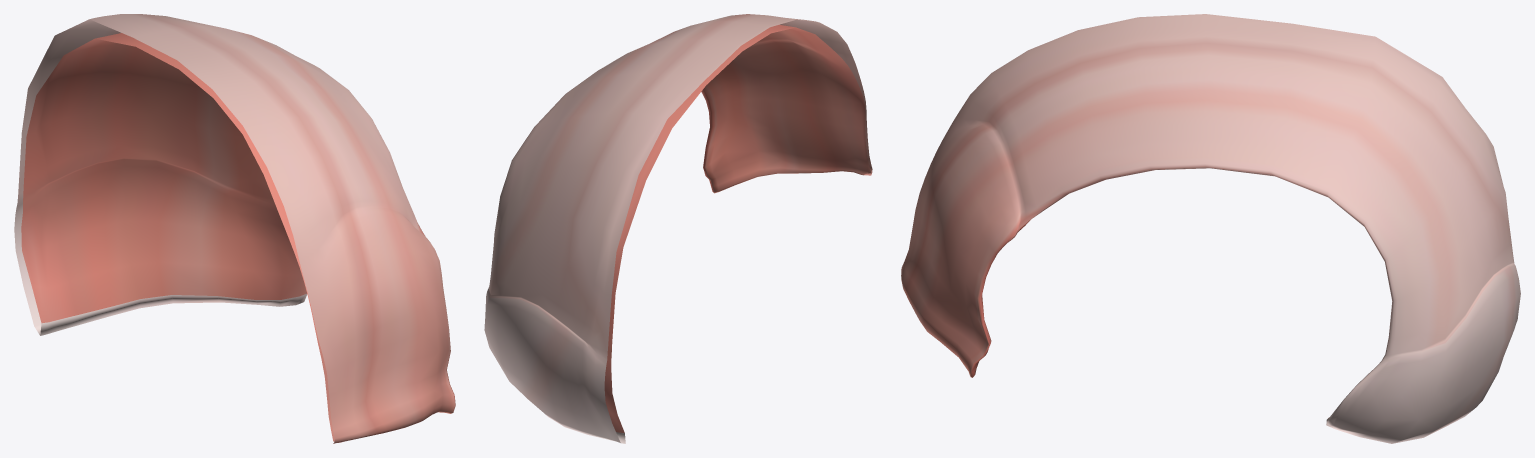
File: Frontalis_Muscle_Left.obj
3 renders of one model, left to right at view 1: azimuth 30°, elevation 25°; view 2: azimuth 150°, elevation 25°; view 3: azimuth 270°, elevation 25°, orthographic. The views are drawn at different scales.
Visible parts, largest first — view 1: Frontalis_Muscle:Frontalis_Muscle_Left_Mesh Frontalis_Muscle:gro; view 2: Frontalis_Muscle:Frontalis_Muscle_Left_Mesh Frontalis_Muscle:gro; view 3: Frontalis_Muscle:Frontalis_Muscle_Left_Mesh Frontalis_Muscle:gro.
Part boxes in pixels (left/top/right/bottom): Frontalis_Muscle:Frontalis_Muscle_Left_Mesh Frontalis_Muscle:gro: left=14, top=14, right=455, bottom=443; Frontalis_Muscle:Frontalis_Muscle_Left_Mesh Frontalis_Muscle:gro: left=484, top=14, right=872, bottom=443; Frontalis_Muscle:Frontalis_Muscle_Left_Mesh Frontalis_Muscle:gro: left=901, top=14, right=1520, bottom=443.
Bounding box in the file's own units: 0.9107 × 1.53 × 2.37.
